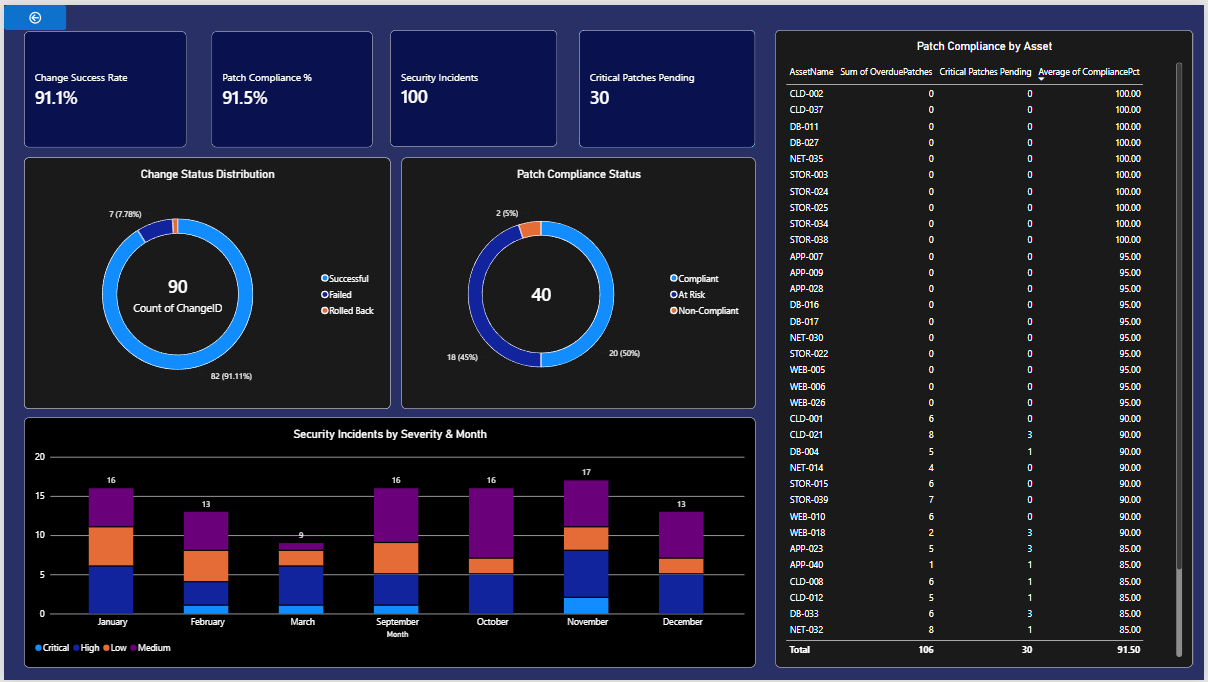

The page's visual inventory and layout, read from the dashboard file:
{"tool":"powerbi","page":{"name":"Change, Patch & Security","canvas":[1920,1080],"ordinal":3},"visuals":[{"type":"actionButton","box":[0,0,100,40],"z":0},{"type":"cardVisual","fields":{"Data":["it_infrastructure_health patch_compliance.Patch Compliance %"]},"box":[332,42,258,186],"z":1000},{"type":"cardVisual","fields":{"Data":["it_infrastructure_health incidents.Security Incidents"]},"box":[618,40,267.5,187.5],"z":2000},{"type":"cardVisual","fields":{"Data":["it_infrastructure_health patch_compliance.Critical Patches Pending"]},"box":[920,40,282,188],"z":3000},{"type":"cardVisual","fields":{"Data":["it_infrastructure_health changes.Change Success Rate"]},"box":[32,42,260,186],"z":4000},{"type":"donutChart","title":"Patch Compliance Status","fields":{"Y":["CountNonNull(it_infrastructure_health patch_compliance.PatchID)"],"Category":["it_infrastructure_health patch_compliance.Status"]},"box":[636,244,566,402],"z":5000},{"type":"donutChart","title":"Change Status Distribution","fields":{"Category":["it_infrastructure_health changes.Status"],"Y":["CountNonNull(it_infrastructure_health changes.ChangeID)"]},"box":[32,244,586,402],"z":6000},{"type":"columnChart","title":"Security Incidents by Severity & Month","fields":{"Category":["it_infrastructure_health security_events.EventDateTime.Variation.Date Hierarchy.Month"],"Series":["it_infrastructure_health security_events.Severity"],"Y":["CountNonNull(it_infrastructure_health security_events.SecurityEventID)"]},"box":[32,660,1170,400],"z":7000},{"type":"tableEx","title":"Patch Compliance by Asset","fields":{"Values":["it_infrastructure_health infrastructure_assets.AssetName","Sum(it_infrastructure_health patch_compliance.OverduePatches)","it_infrastructure_health patch_compliance.Critical Patches Pending","Avg(it_infrastructure_health patch_compliance.CompliancePct)"]},"box":[1234,40,668,1020],"z":8000}]}

Visuals, with their boxes on the page's 1920x1080 design canvas (x1, y1, x2, y2). These are canvas units, not pixel positions in the 1208x682 screenshot, which may show the page scaled, cropped or inside an application window:
actionButton: BBox(0, 0, 100, 40)
cardVisual - it_infrastructure_health patch_compliance.Patch Compliance %: BBox(332, 42, 590, 228)
cardVisual - it_infrastructure_health incidents.Security Incidents: BBox(618, 40, 886, 228)
cardVisual - it_infrastructure_health patch_compliance.Critical Patches Pending: BBox(920, 40, 1202, 228)
cardVisual - it_infrastructure_health changes.Change Success Rate: BBox(32, 42, 292, 228)
"Patch Compliance Status" donutChart: BBox(636, 244, 1202, 646)
"Change Status Distribution" donutChart: BBox(32, 244, 618, 646)
"Security Incidents by Severity & Month" columnChart: BBox(32, 660, 1202, 1060)
"Patch Compliance by Asset" tableEx: BBox(1234, 40, 1902, 1060)
